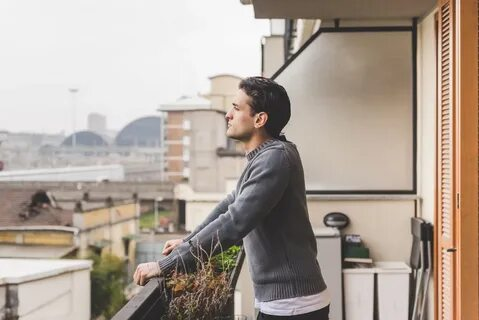awake: (132, 75, 331, 320)
